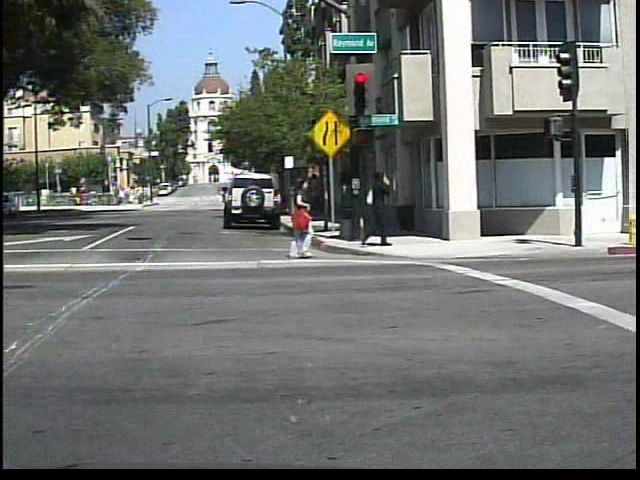person: (360, 163, 403, 249), (285, 173, 324, 261)
